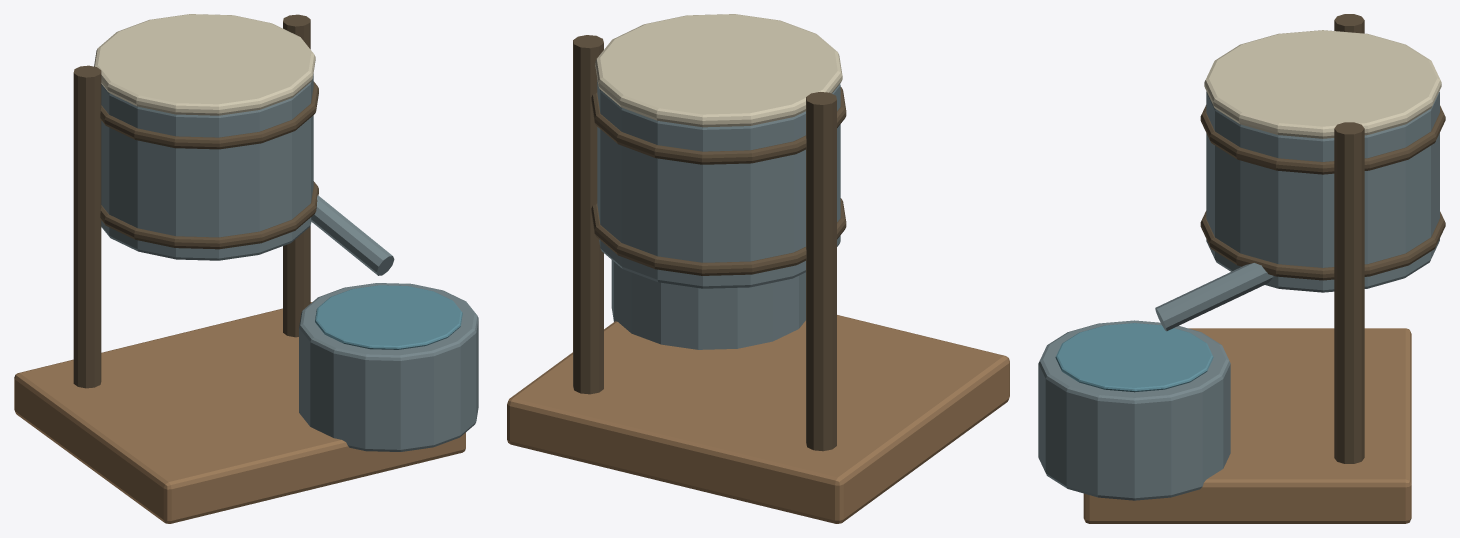
Rendered from filter-before.glb.
The picture shows the model from 3 angles, left to right: view 1: azimuth 30°, elevation 25°; view 2: azimuth 150°, elevation 25°; view 3: azimuth 270°, elevation 25°; orthographic projection. The views are drawn at different scales.
Visible parts, largest first — view 1: GEO-filter-176, GEO-filter-54, GEO-filter-188, GEO-filter-82, GEO-filter-82.001; view 2: GEO-filter-54, GEO-filter-176, GEO-filter-188, GEO-filter-82; view 3: GEO-filter-176, GEO-filter-54, GEO-filter-82, GEO-filter-188, GEO-filter-82.001.
Part boxes in pixels (box(x1,y1,x2,y2)): GEO-filter-176: box(101, 74, 478, 451); GEO-filter-54: box(14, 302, 465, 523); GEO-filter-188: box(73, 14, 318, 388); GEO-filter-82: box(94, 14, 315, 115); GEO-filter-82.001: box(315, 285, 462, 349); GEO-filter-54: box(507, 315, 1009, 523); GEO-filter-176: box(597, 80, 840, 349); GEO-filter-188: box(573, 35, 846, 451); GEO-filter-82: box(595, 14, 842, 127); GEO-filter-176: box(1038, 91, 1439, 500); GEO-filter-54: box(1083, 328, 1411, 523); GEO-filter-82: box(1204, 30, 1441, 138); GEO-filter-188: box(1200, 14, 1445, 463); GEO-filter-82.001: box(1055, 323, 1213, 392).
Size of the model in its own units: 1.06 by 1.09 by 1.08.
